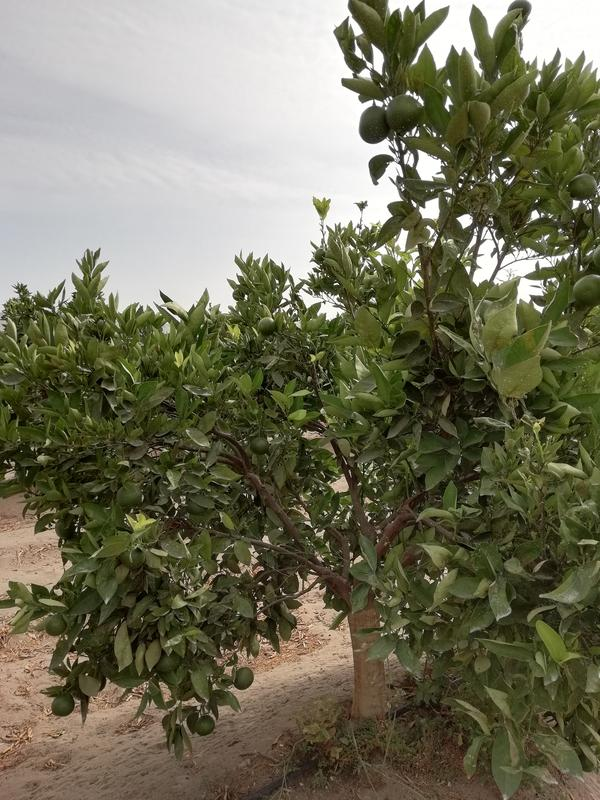mandarina verde: (386, 94, 424, 133), (358, 105, 389, 144), (568, 173, 598, 201), (573, 274, 600, 305), (117, 484, 141, 509), (157, 652, 181, 674), (45, 614, 67, 636), (51, 696, 75, 716), (234, 667, 254, 690), (195, 715, 215, 736), (258, 316, 275, 336), (251, 436, 269, 454)
